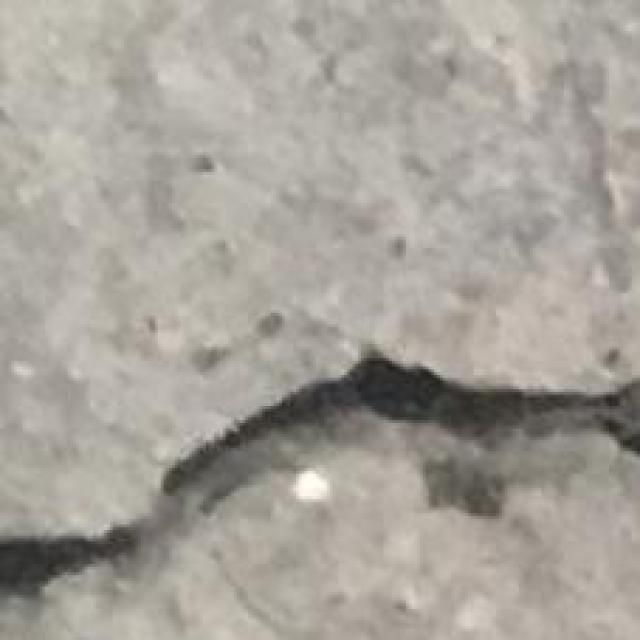curved crack: (0, 351, 639, 596)
